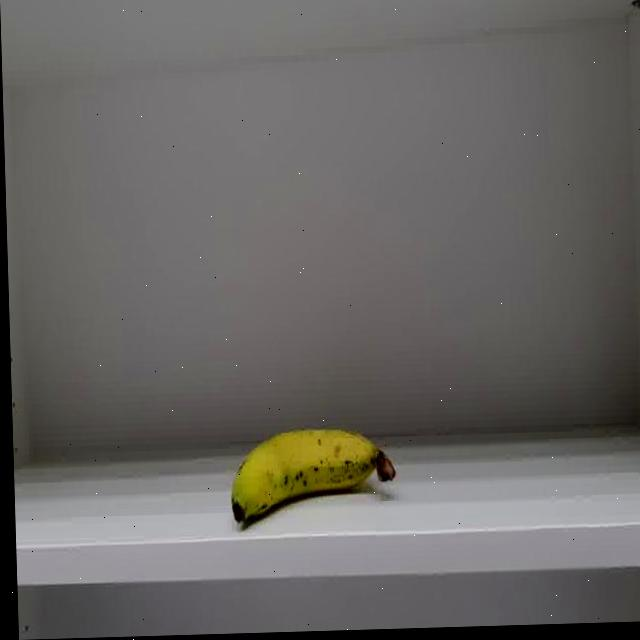banana: (228, 425, 398, 527)
